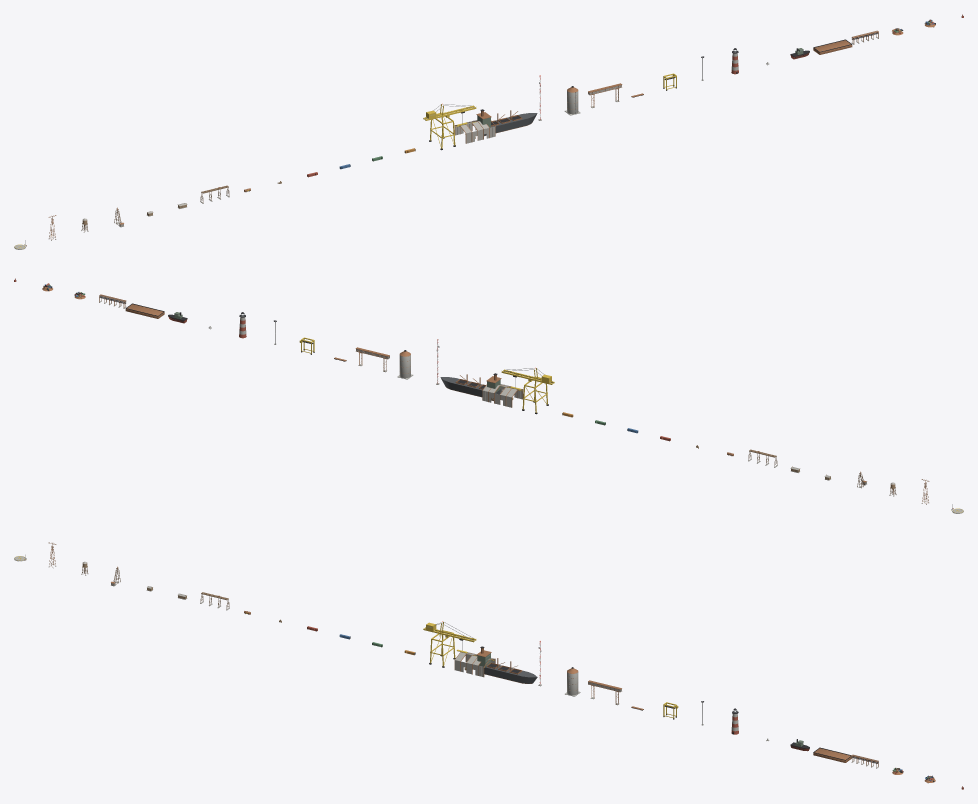
Rendered from props.glb.
3 views of the same model, one above another, from view 1: azimuth 30°, elevation 25°; view 2: azimuth 150°, elevation 25°; view 3: azimuth 330°, elevation 25° (orthographic).
Parts seen in each view (by area): view 1: ship_hulk, gantry_crane, warehouse; view 2: ship_hulk, gantry_crane, warehouse; view 3: ship_hulk, gantry_crane, warehouse.
Boxes of the visible parts, <box> form: ship_hulk: <box>476,109,537,136</box>; gantry_crane: <box>423,103,476,150</box>; warehouse: <box>454,120,495,143</box>; ship_hulk: <box>440,373,501,398</box>; gantry_crane: <box>501,367,554,414</box>; warehouse: <box>482,384,523,407</box>; ship_hulk: <box>476,646,537,683</box>; gantry_crane: <box>423,621,476,667</box>; warehouse: <box>454,652,495,677</box>.
Size of the model in its own units: 1168 by 53.35 by 25.6.
